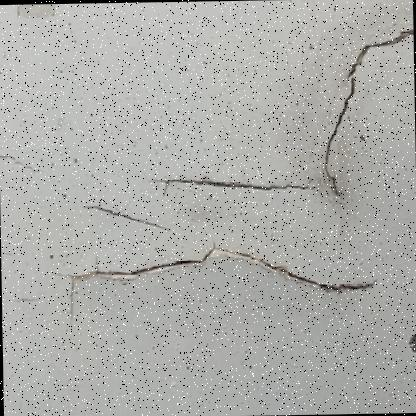Crack: (48, 4, 415, 384), (0, 119, 57, 208)
